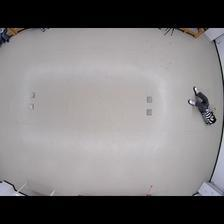fall: (186, 84, 218, 127)
